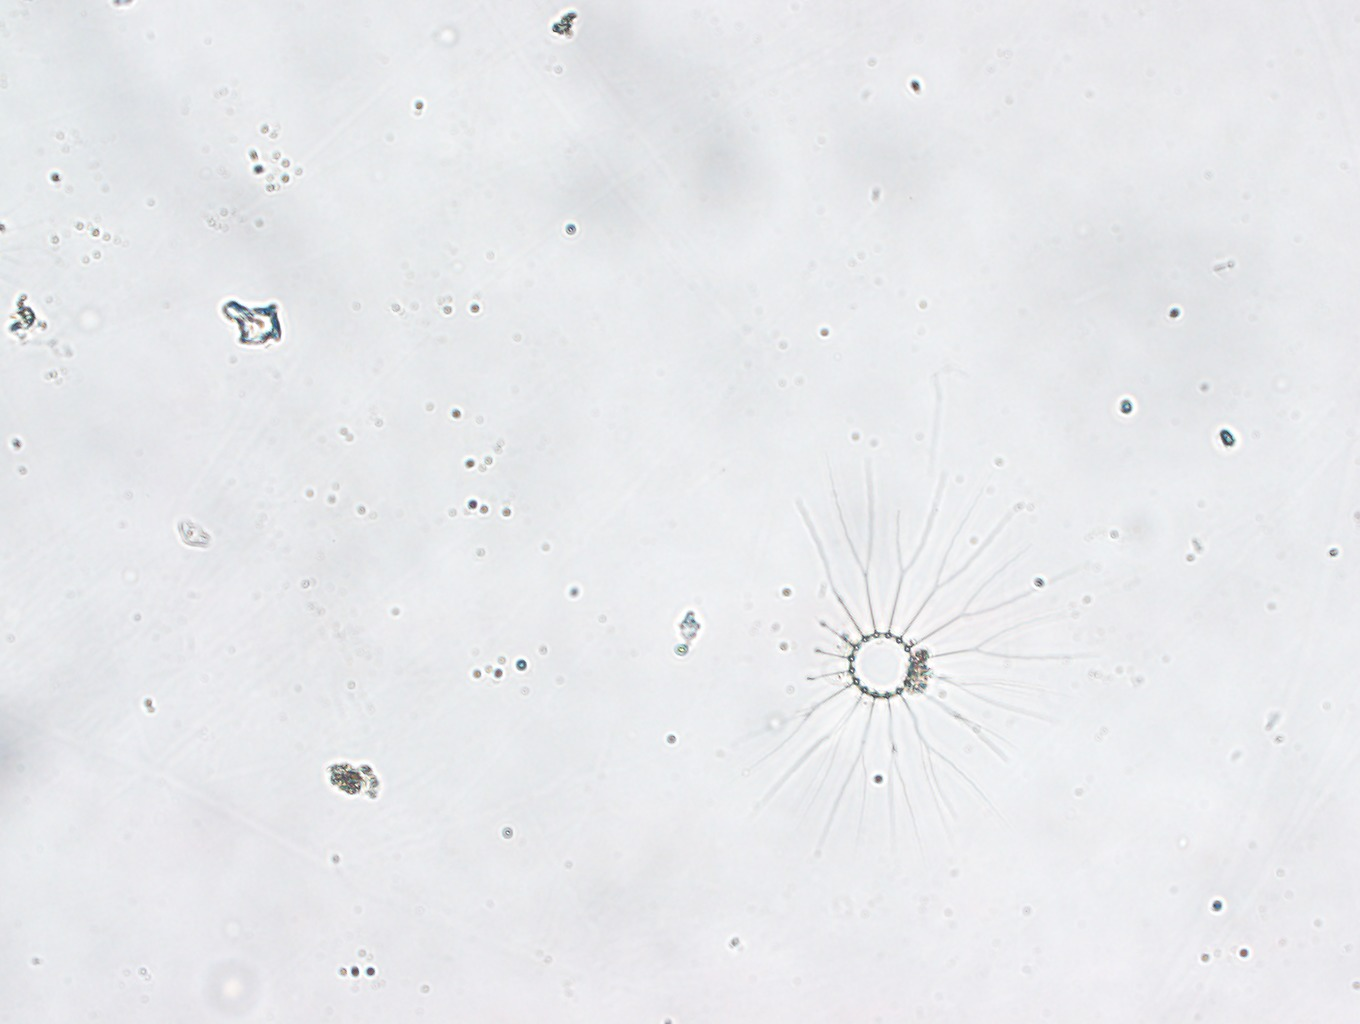bacteriastrum: (710, 447, 1114, 847)
